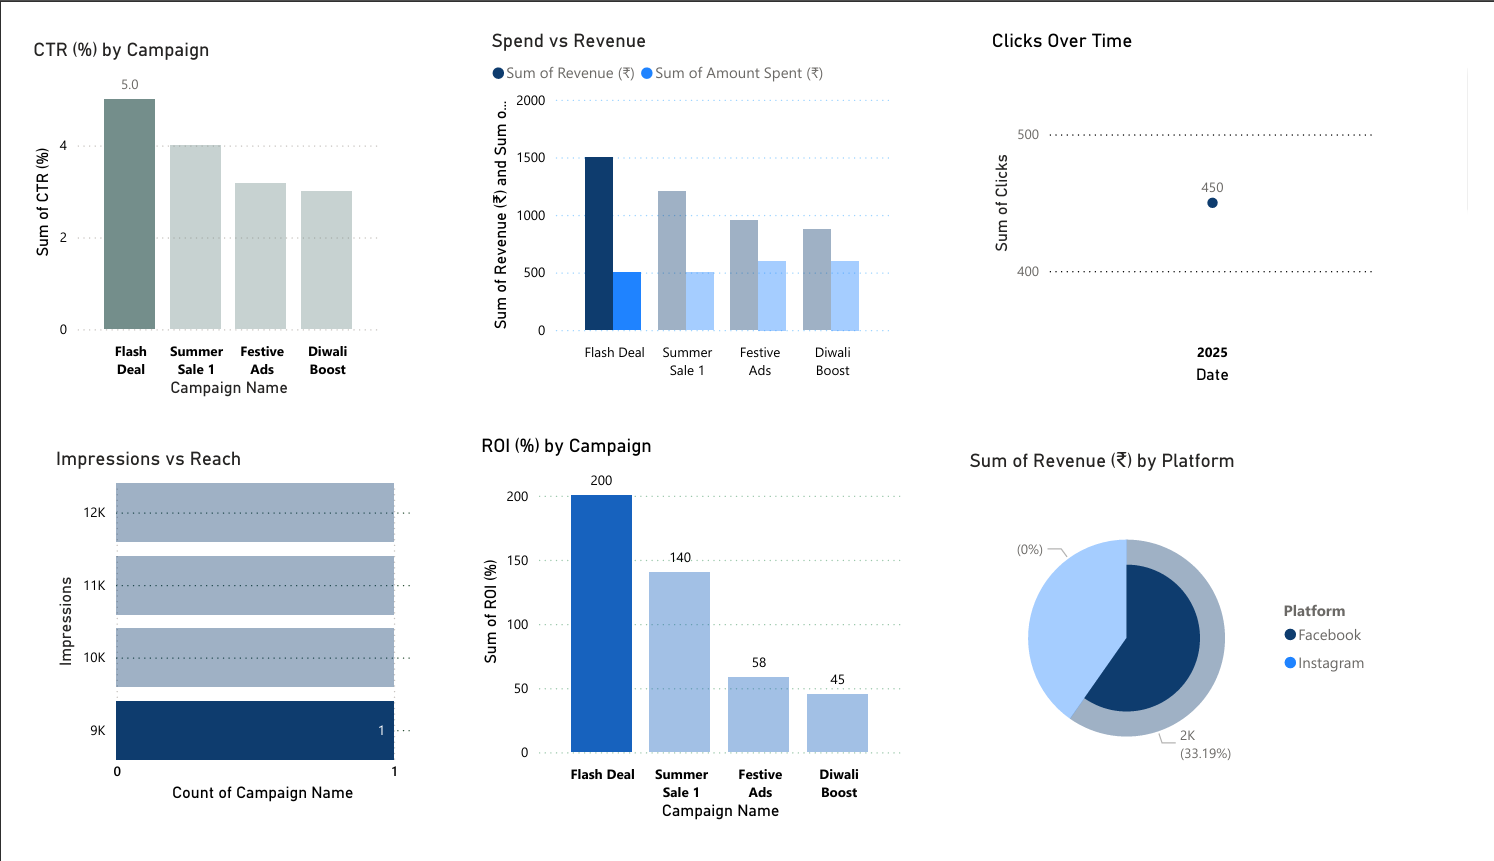

The dashboard page shown, as its layout file describes it:
{"tool":"powerbi","page":{"name":"Page 1","canvas":[1280,720],"ordinal":0},"visuals":[{"type":"clusteredColumnChart","title":"CTR (%) by Campaign","fields":{"Category":["Sheet1.Campaign Name"],"Y":["Sum(Sheet1.CTR (%))"]},"box":[0,8.3,318.3,323.3],"z":0},{"type":"clusteredBarChart","title":"Impressions vs Reach","fields":{"Y":["CountNonNull(Sheet1.Campaign Name)"],"Category":["Sheet1.Impressions","Sheet1.Reach"]},"box":[20,371.7,326.7,320],"z":1},{"type":"clusteredColumnChart","title":"      Spend vs Revenue","fields":{"Category":["Sheet1.Campaign Name"],"Y":["Sum(Sheet1.Revenue (₹))","Sum(Sheet1.Amount Spent (₹))"]},"box":[406.7,0,365,331.7],"z":2},{"type":"clusteredColumnChart","title":"ROI (%) by Campaign","fields":{"Category":["Sheet1.Campaign Name"],"Y":["Sum(Sheet1.ROI (%))"]},"box":[398.3,360,383.3,348.3],"z":3},{"type":"lineChart","title":"Clicks Over Time","fields":{"Y":["Sum(Sheet1.Clicks)"],"Category":["Sheet1.Date.Variation.Date Hierarchy.Year","Sheet1.Date.Variation.Date Hierarchy.Quarter","Sheet1.Date.Variation.Date Hierarchy.Month","Sheet1.Date.Variation.Date Hierarchy.Day"]},"box":[851.7,0,350,320],"z":4},{"type":"pieChart","fields":{"Category":["Sheet1.Platform"],"Y":["Sum(Sheet1.Revenue (₹))"]},"box":[831.7,371.7,370,320],"z":5}]}

Visuals, with their boxes in screenshot pixels (x1, y1, x2, y2), scaled from the page's 1280x720 canvas onto the 1494x861 screenshot:
"CTR (%) by Campaign" clusteredColumnChart: bbox=[0, 10, 372, 397]
"Impressions vs Reach" clusteredBarChart: bbox=[23, 444, 405, 827]
"      Spend vs Revenue" clusteredColumnChart: bbox=[475, 0, 901, 397]
"ROI (%) by Campaign" clusteredColumnChart: bbox=[465, 430, 912, 847]
"Clicks Over Time" lineChart: bbox=[994, 0, 1403, 383]
pieChart - Sheet1.Platform x Sum(Sheet1.Revenue (₹)): bbox=[971, 444, 1403, 827]
